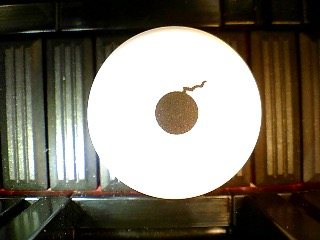CRACK: (86, 25, 262, 200)
